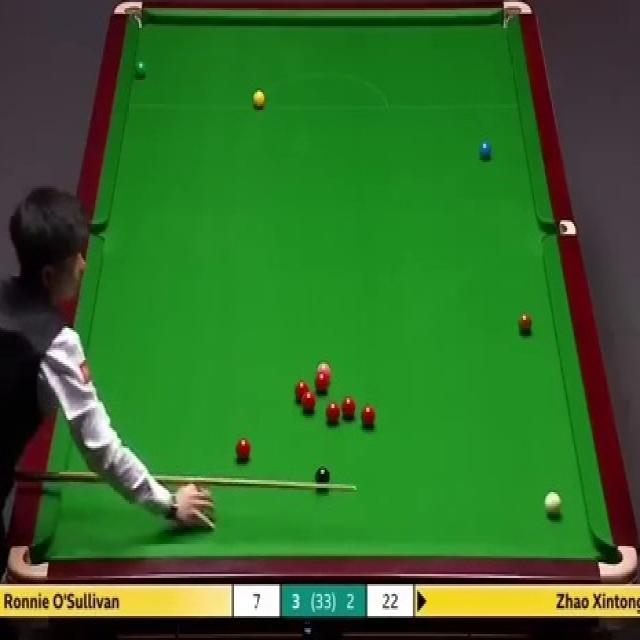pocket: (5, 543, 52, 582), (595, 543, 637, 582), (500, 0, 532, 32), (112, 0, 147, 29), (540, 218, 577, 237)
